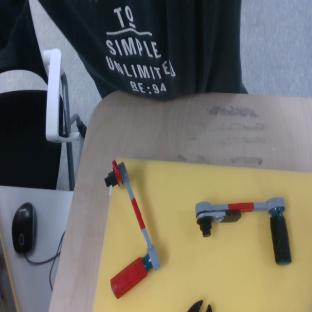non_pass: (194, 193, 292, 273)
pass: (71, 157, 166, 299)
